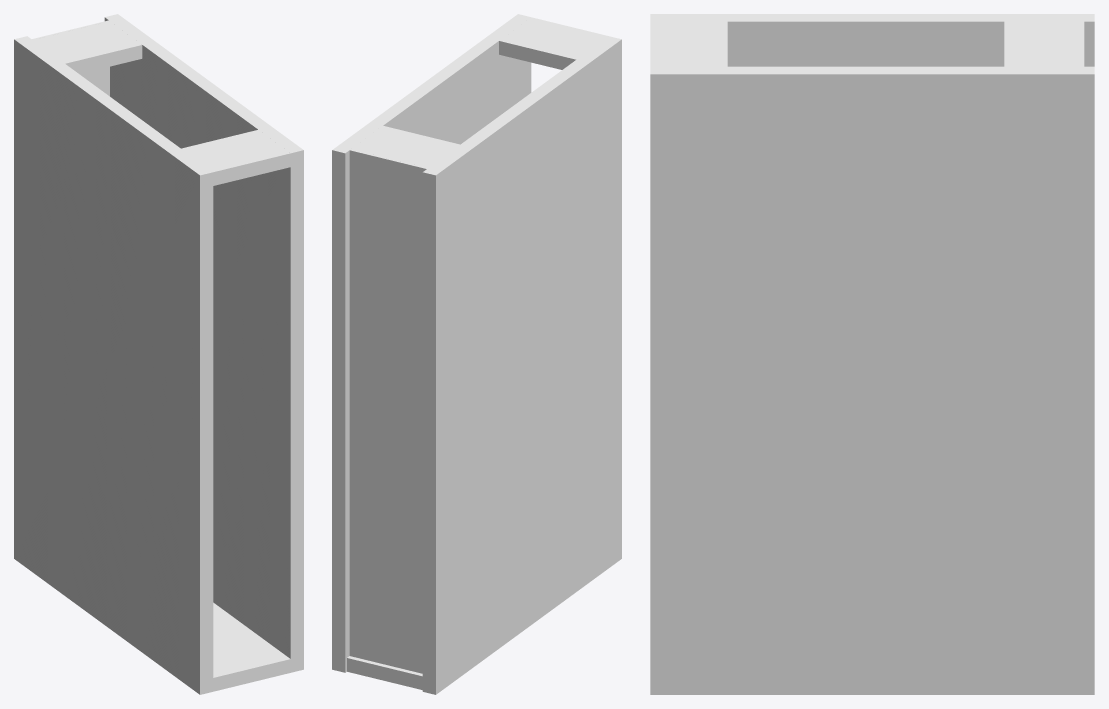
File: corpus_bottom_15.glb
3 views of the same model, side by side, from view 1: azimuth 30°, elevation 25°; view 2: azimuth 150°, elevation 25°; view 3: azimuth 270°, elevation 25° (orthographic). The views are drawn at different scales.
Parts seen in each view (by area): view 1: corpus_bottom_15; view 2: corpus_bottom_15; view 3: corpus_bottom_15.
Part boxes in pixels (x1,y1,x2,y2): corpus_bottom_15: [14, 14, 303, 694]; corpus_bottom_15: [332, 14, 621, 694]; corpus_bottom_15: [650, 14, 1094, 694].
Bounding box in the file's own units: 0.1495 × 0.715 × 0.464.
Materials: 1 (1 with a texture image).
